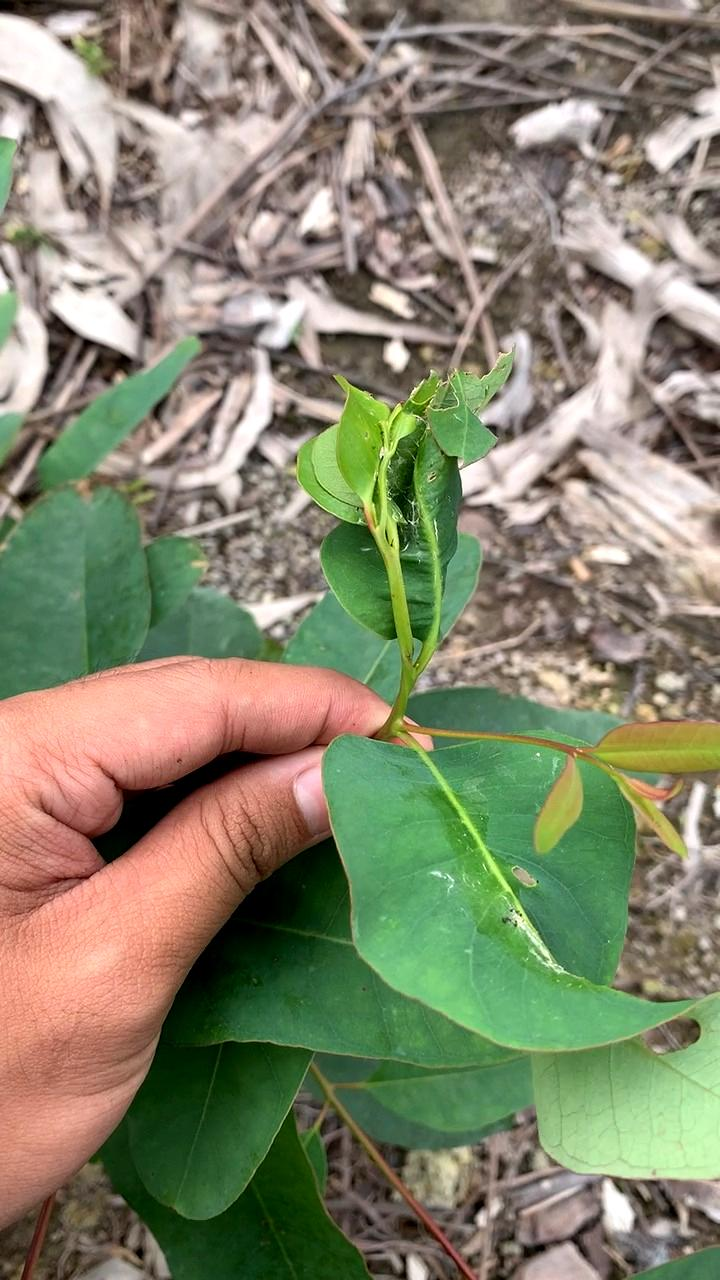Leaf Roller - Leaf: (308, 363, 524, 644)
